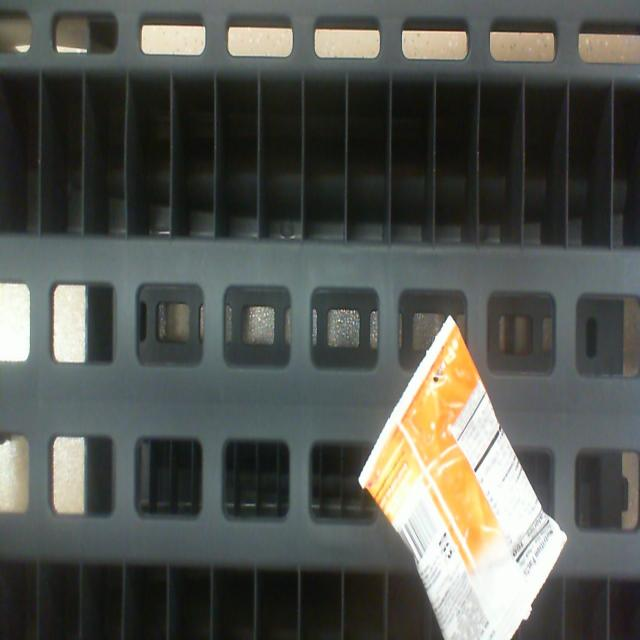snack: (360, 321, 564, 640)
